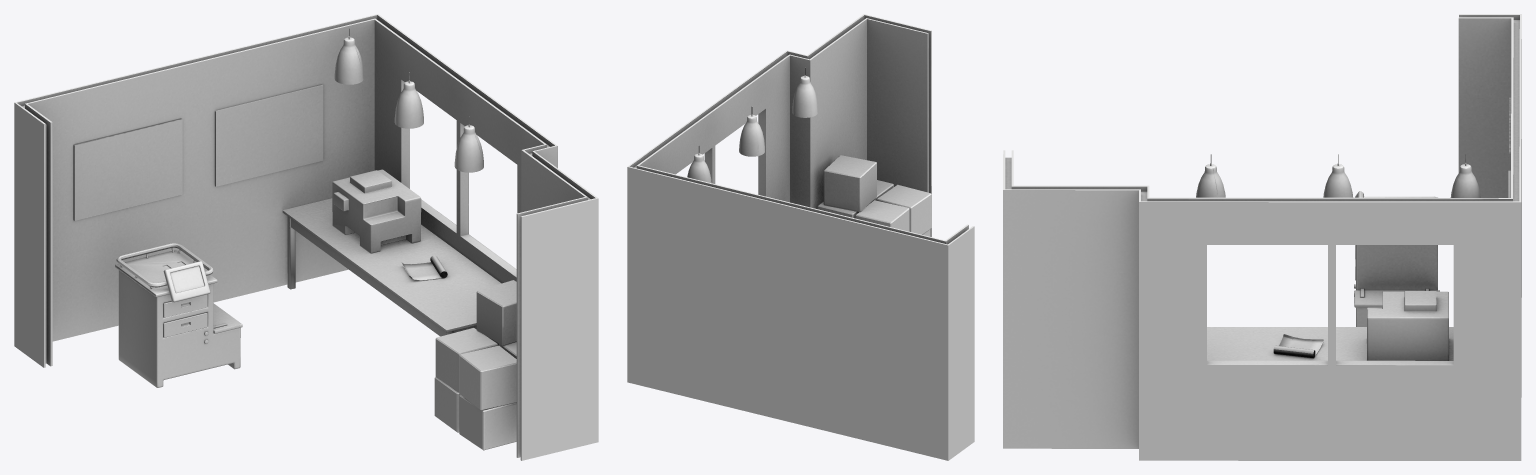
File: office_diorama.glb
3 renders of one model, left to right at view 1: azimuth 30°, elevation 25°; view 2: azimuth 150°, elevation 25°; view 3: azimuth 270°, elevation 25°, orthographic. The views are drawn at different scales.
Visible parts, largest first — view 1: OfficeDiorama; view 2: OfficeDiorama; view 3: OfficeDiorama.
Part boxes in pixels (x1,y1,x2,y2): OfficeDiorama: (14, 14, 598, 460); OfficeDiorama: (627, 14, 974, 460); OfficeDiorama: (1003, 14, 1521, 460).
Bounding box in the file's own units: 2.96 × 2.04 × 3.44.
1 material, 1 textured.
